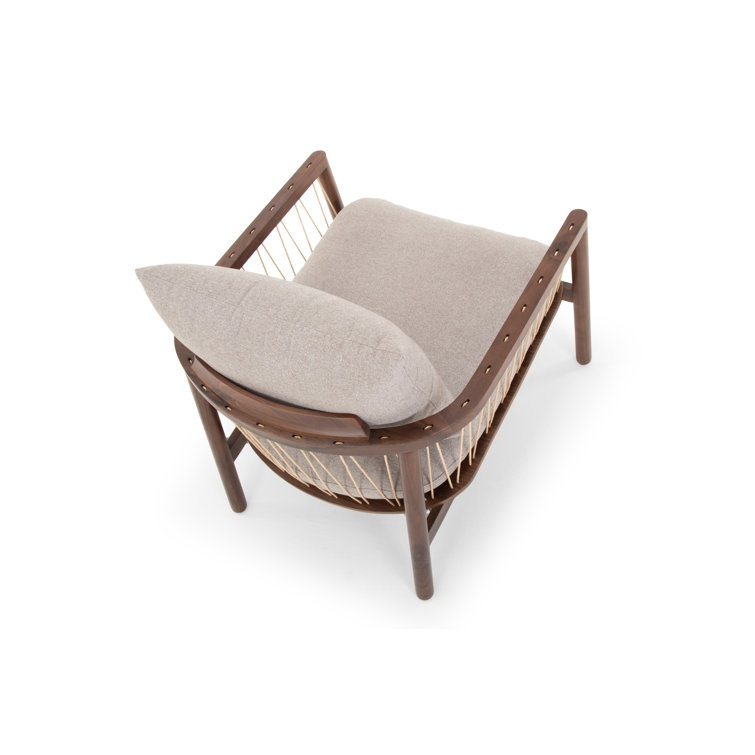obstacle: (137, 151, 590, 598)
